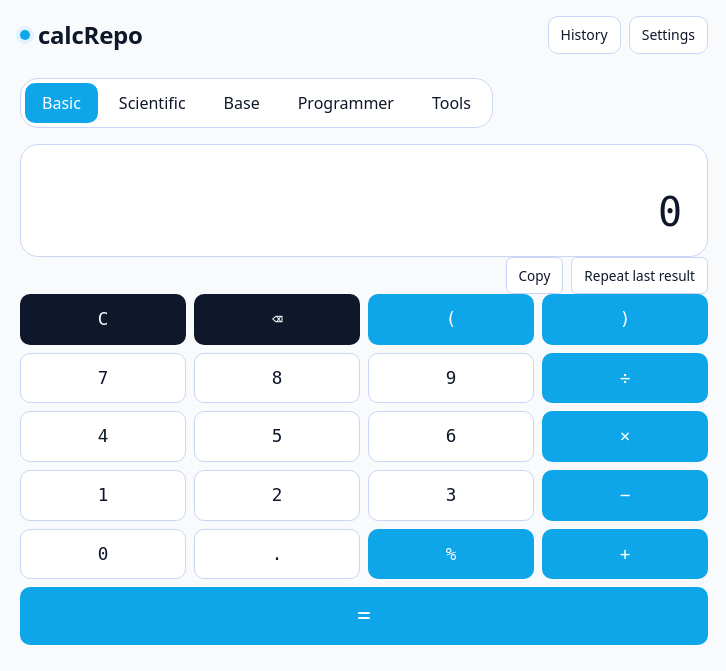
it: BaseView › renders initial state with default decimal/hex output
Click the tab "Base": (242, 103) [207, 83, 277, 123]
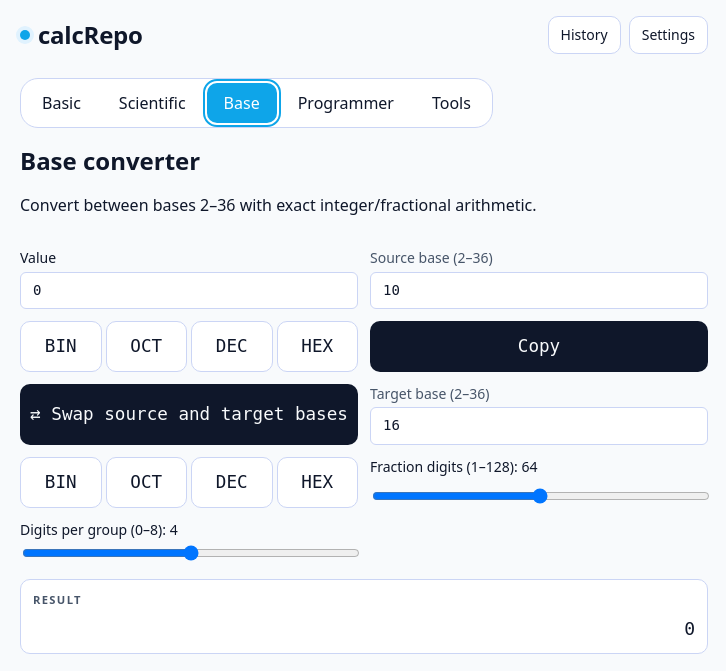
expect the element with test id "base-output" shows "0": met, box [684, 618, 695, 639]
